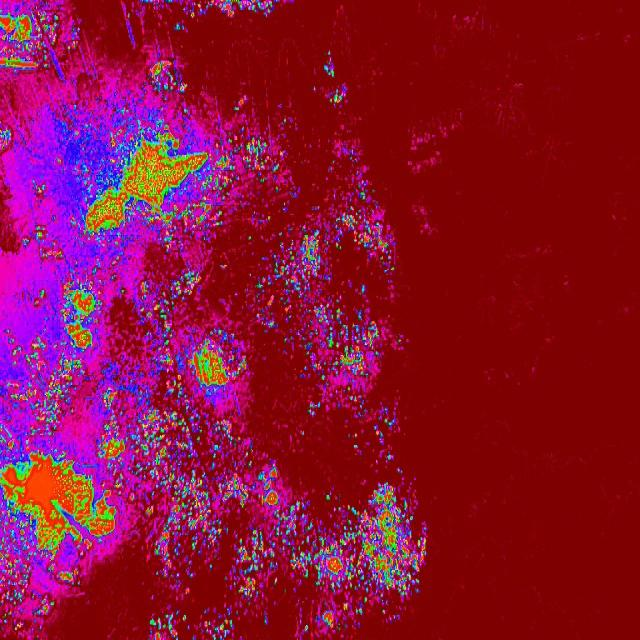fire: (134, 412, 298, 640), (271, 207, 412, 402), (71, 114, 238, 246), (292, 481, 428, 634), (0, 445, 123, 587), (0, 336, 82, 448), (158, 322, 252, 411), (134, 270, 202, 342), (342, 407, 410, 475), (0, 0, 61, 75), (52, 275, 108, 353), (0, 569, 55, 636), (238, 130, 294, 195), (127, 0, 280, 22), (97, 386, 138, 465), (142, 57, 191, 101), (19, 223, 68, 263), (316, 46, 346, 106), (62, 24, 86, 57), (28, 286, 51, 312), (355, 184, 377, 206), (0, 125, 13, 153), (31, 180, 48, 198)
